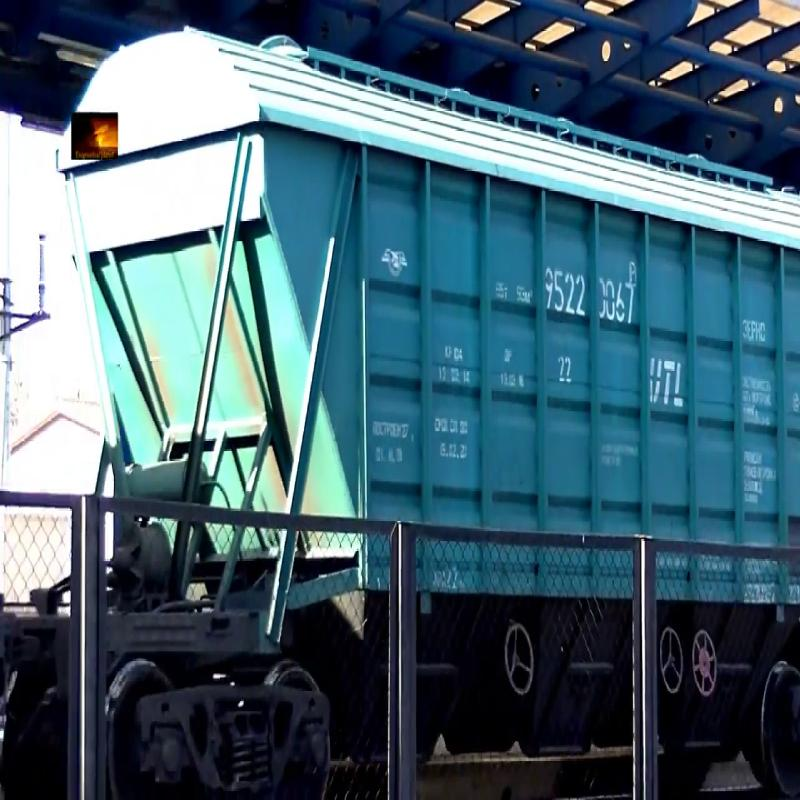train: (50, 12, 800, 774)
